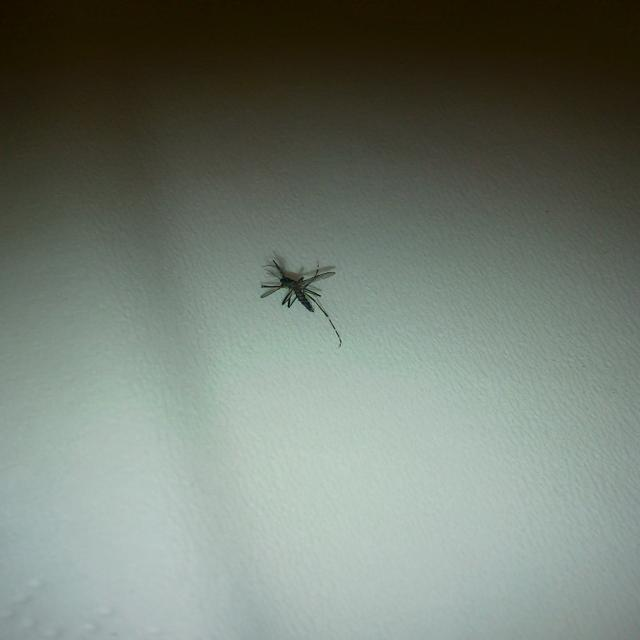albopictus: (247, 250, 347, 347)
